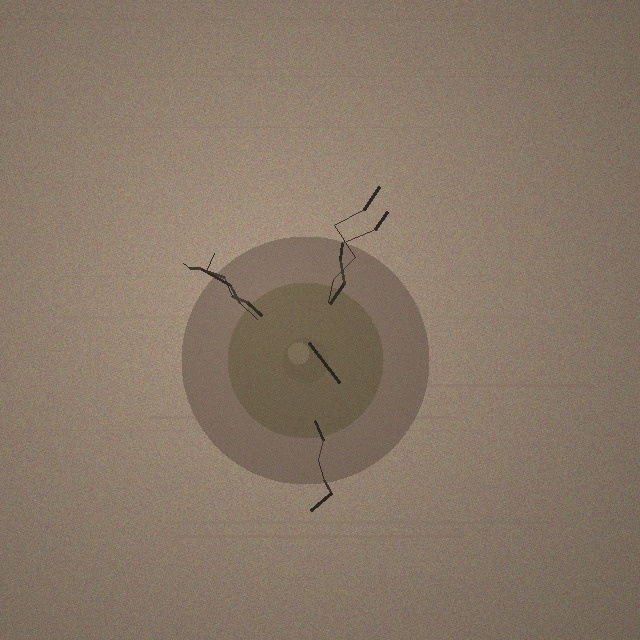crack: (181, 236, 429, 484)
